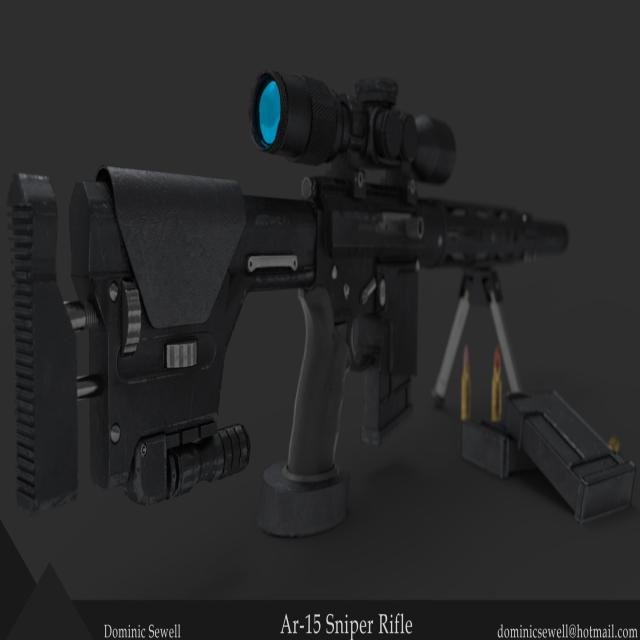Rifle: (10, 71, 570, 539)
